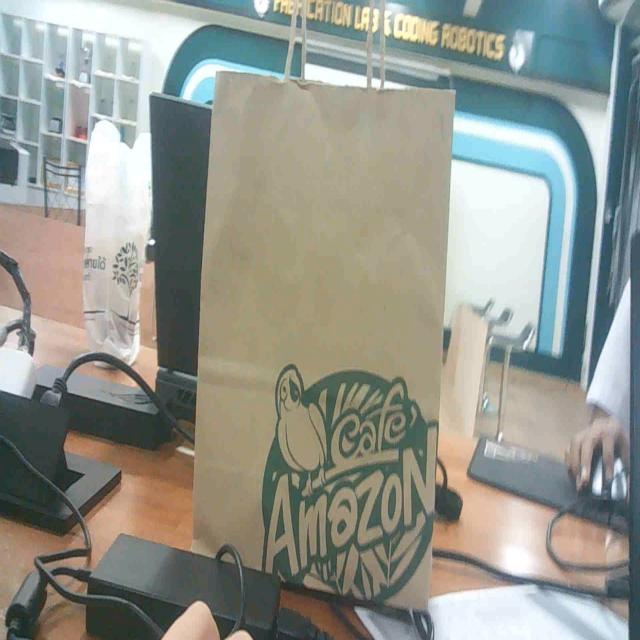bag: (189, 20, 452, 618)
